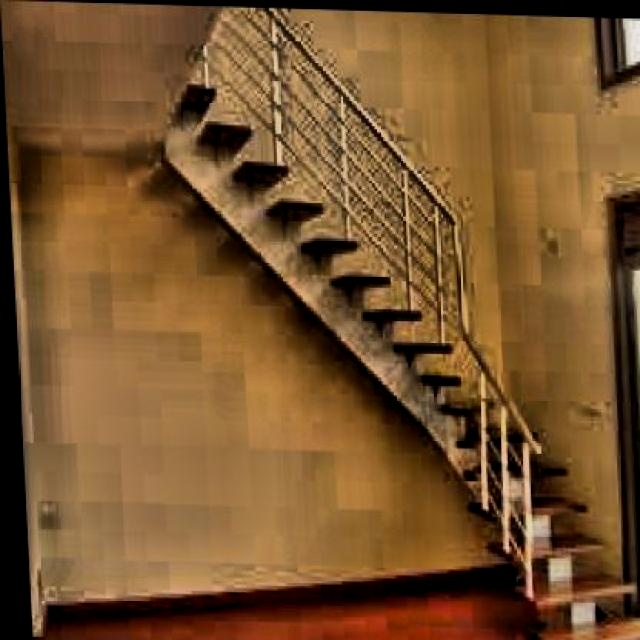stair: (436, 408, 638, 638)
